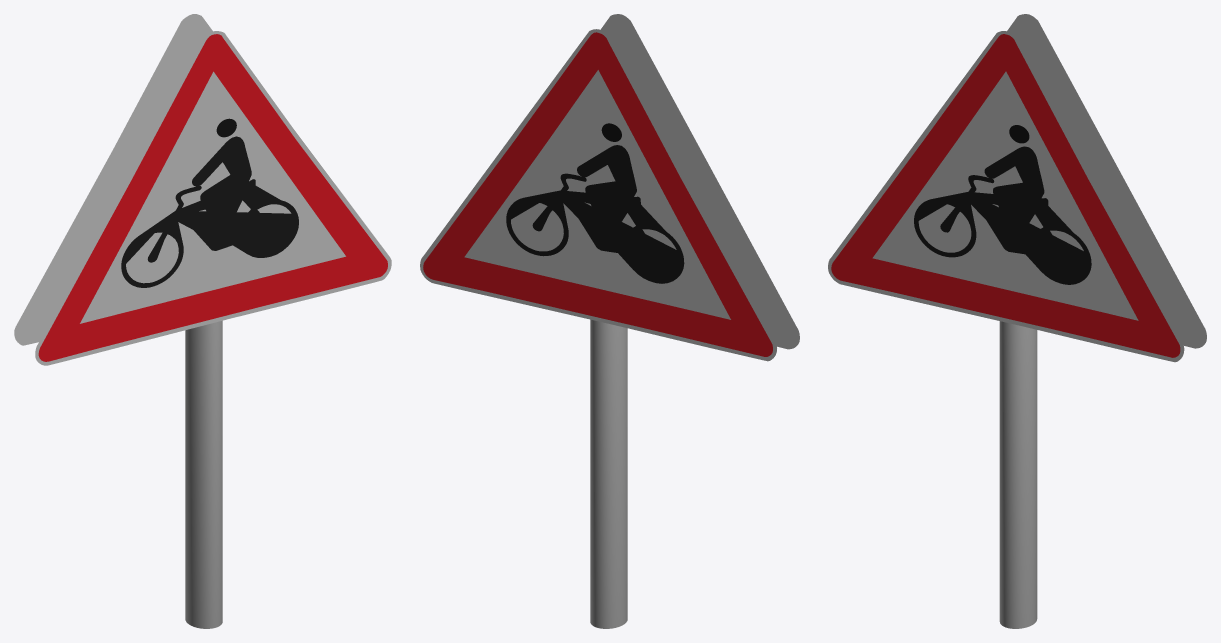
The model's file is Sign Board Cyclist.fbx.
3 renders of one model, left to right at view 1: azimuth 30°, elevation 25°; view 2: azimuth 150°, elevation 25°; view 3: azimuth 330°, elevation 25°, orthographic.
Parts seen in each view (by area): view 1: Sign_Board_Cyclist; view 2: Sign_Board_Cyclist; view 3: Sign_Board_Cyclist.
Boxes of the visible parts, box(x1,y1,x2,y2) form: Sign_Board_Cyclist: box(14, 14, 391, 628); Sign_Board_Cyclist: box(420, 14, 799, 628); Sign_Board_Cyclist: box(828, 14, 1206, 628).
Size of the model in its own units: 692 by 1107 by 74.62.
